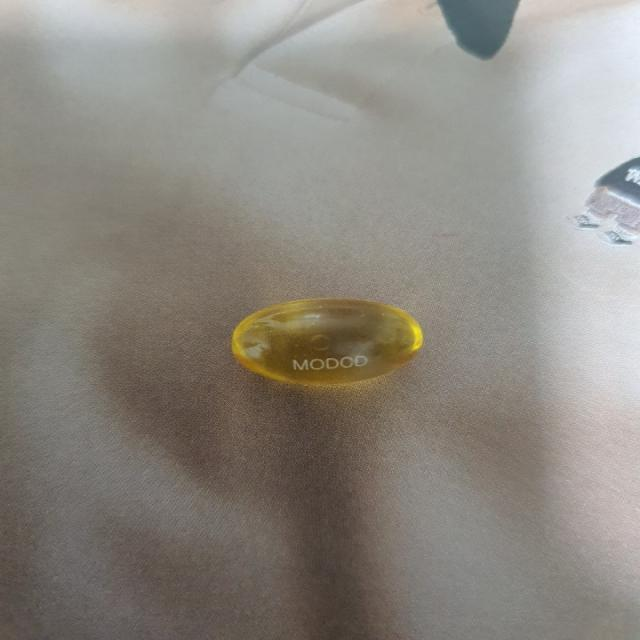pill: (234, 284, 426, 394)
